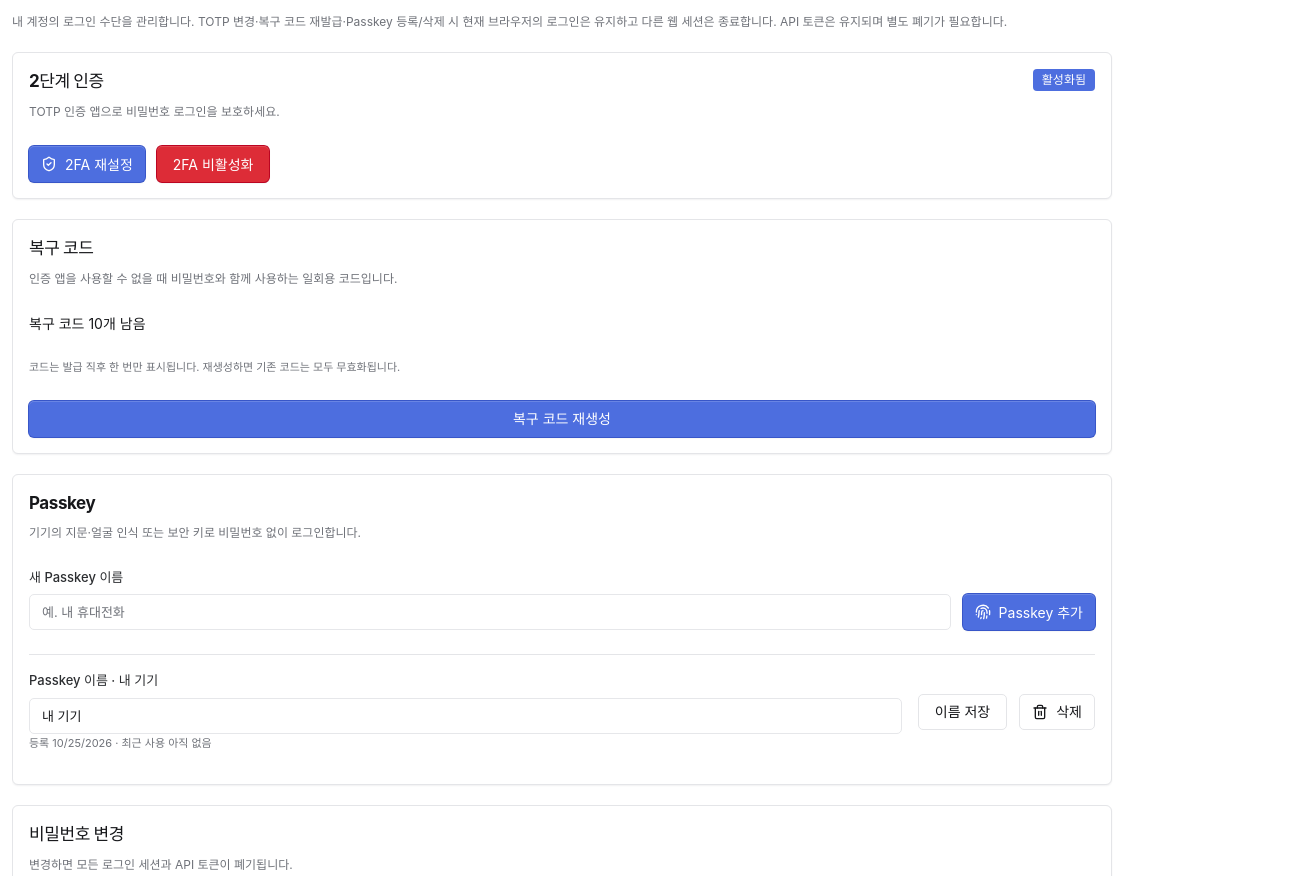
Scenario: 2FA 비활성화 후 설정 화면과 새 CSRF를 유지한다
Expected: the text "복구 코드 10개 남음" is shown, [29,315,146,332]
Click the button "2FA 비활성화": (213, 164) [157,146,270,182]
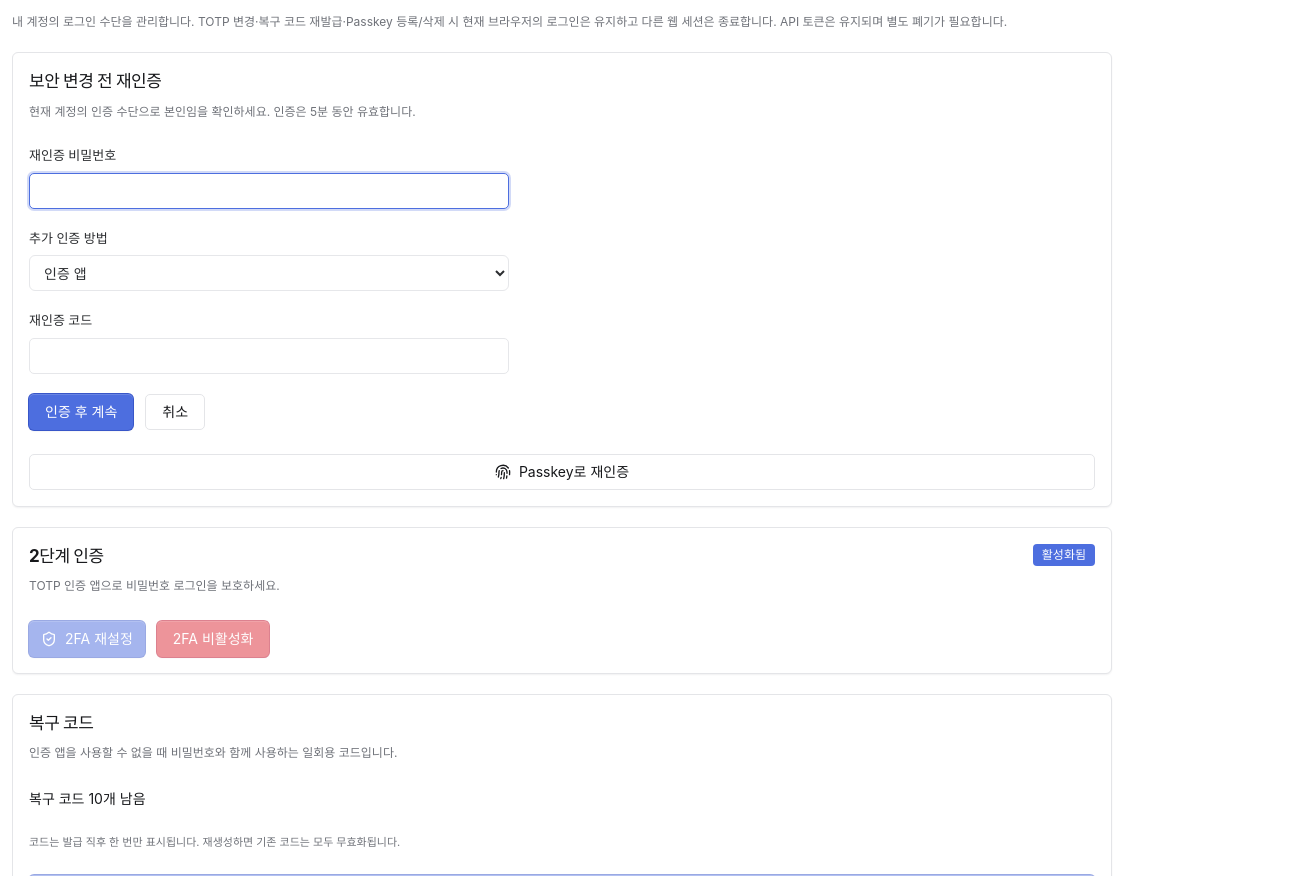
In the password field labelled "재인증 비밀번호": (269, 191) [29,173,509,209], type "test-password"
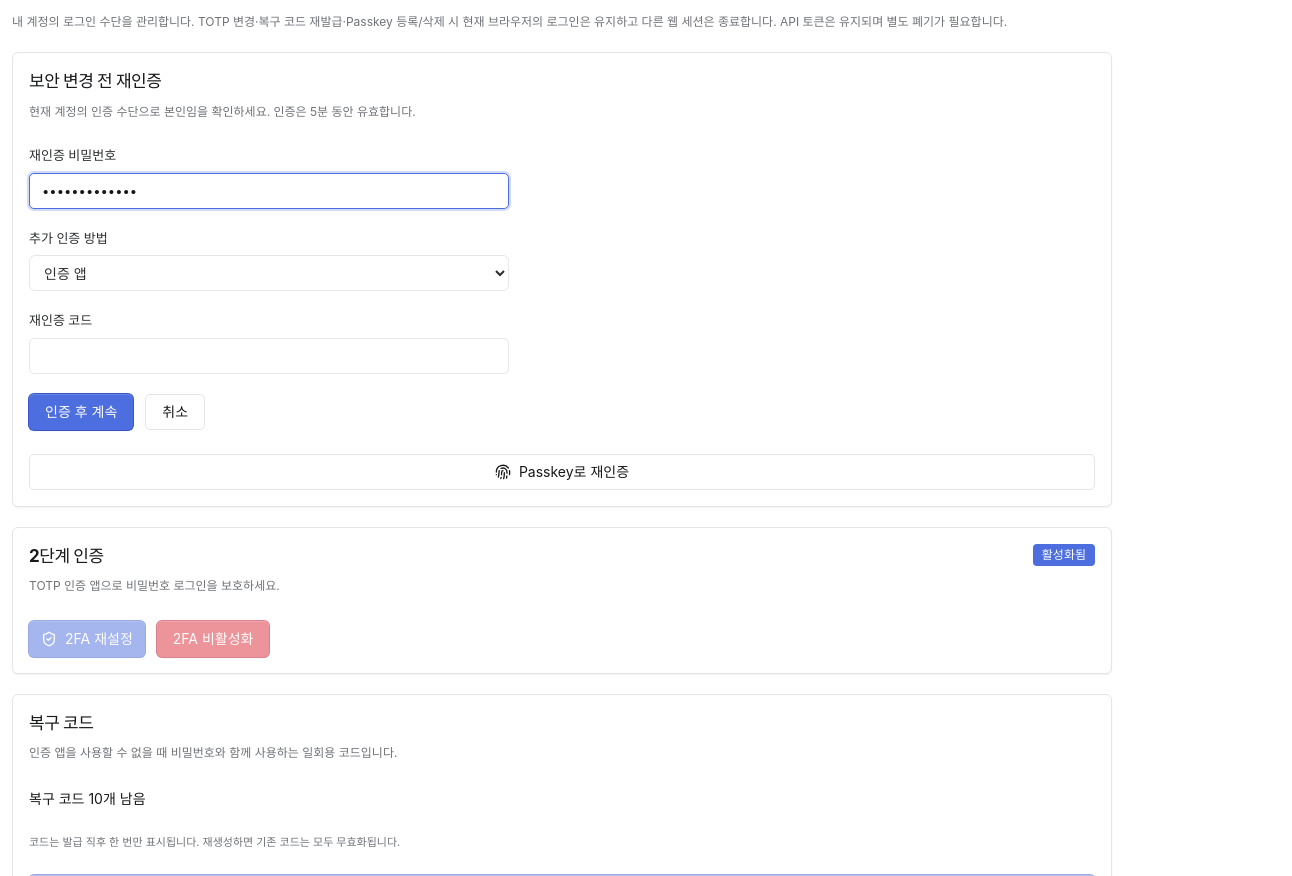
In the field labelled "재인증 코드": (269, 356) [29,338,509,374], type "123456"
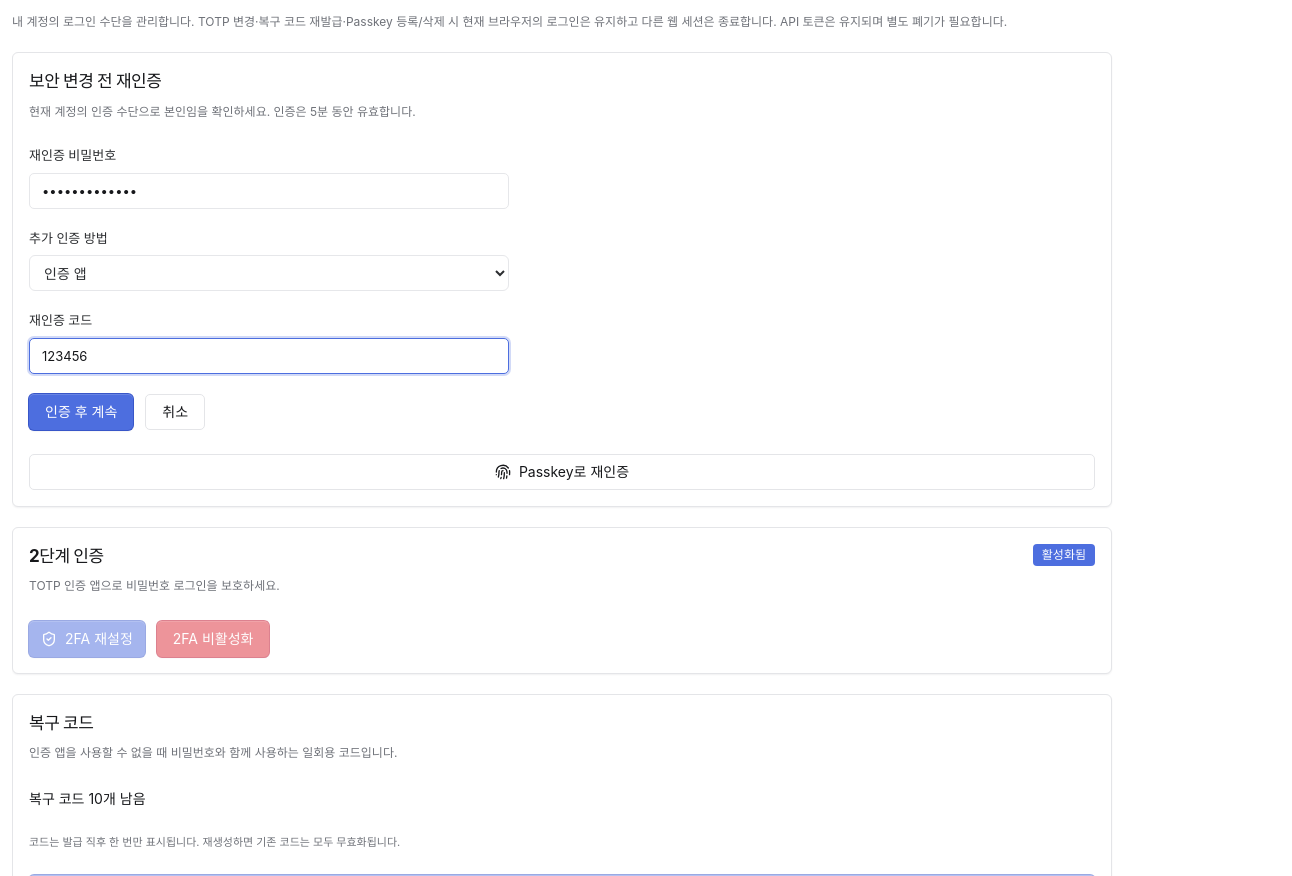
Click the button "인증 후 계속": (81, 412) [29,394,133,430]
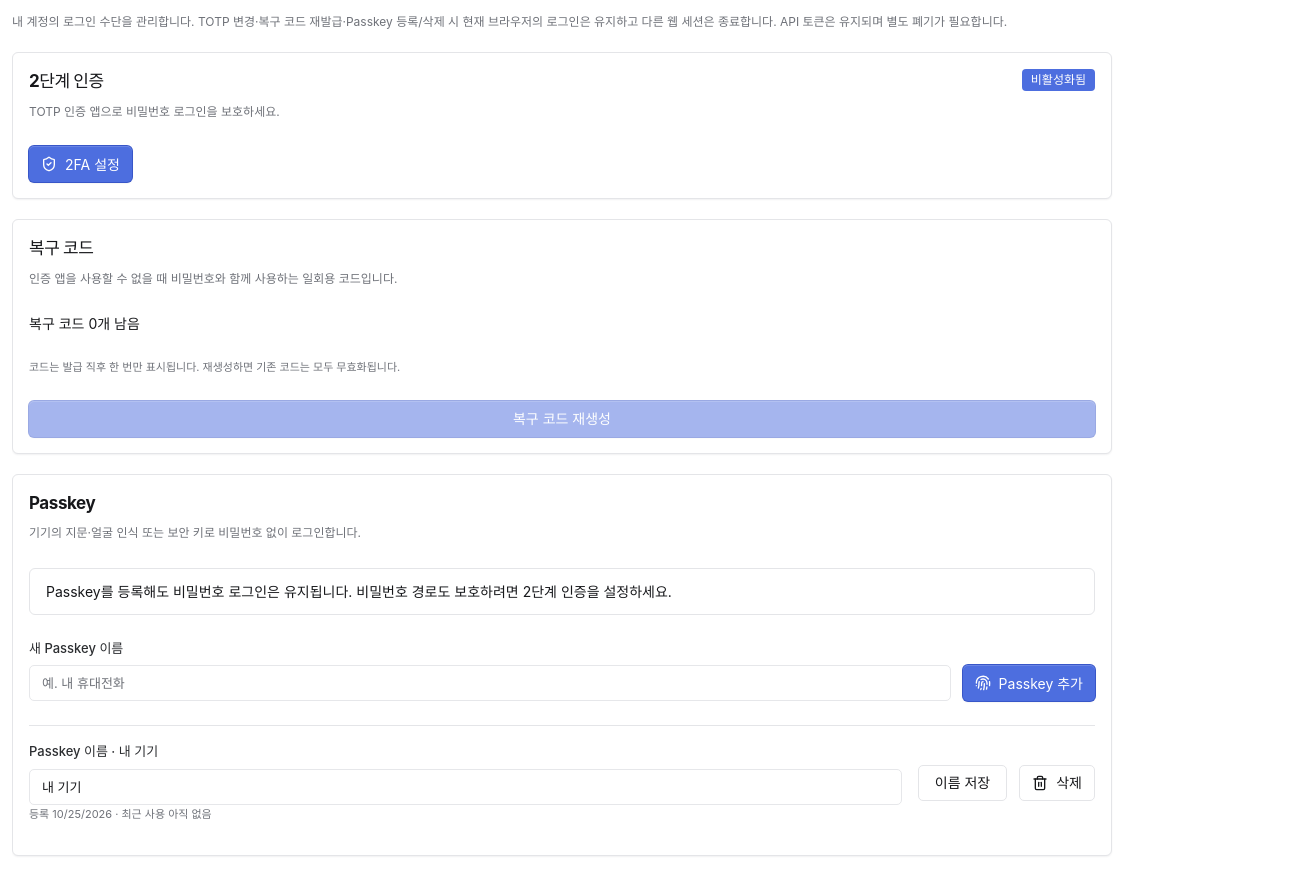
Expected: the heading "2단계 인증" is shown, [29,71,104,91]
Now the text "비활성화됨" is shown, box [1022,69,1095,91]
